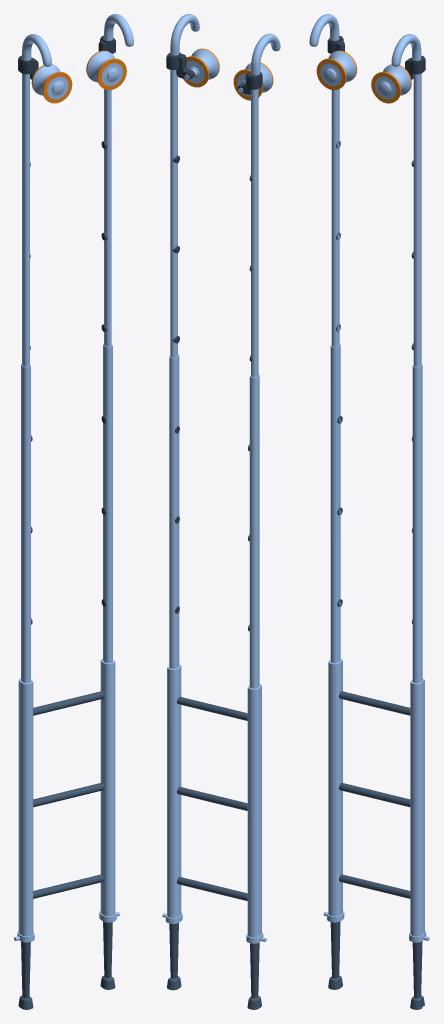
The model's file is Ladder_WheelsUpgrade_01_Mesh.fbx.
The picture shows the model from 3 angles, left to right: view 1: azimuth 30°, elevation 25°; view 2: azimuth 150°, elevation 25°; view 3: azimuth 330°, elevation 25°; orthographic projection.
Visible parts, largest first — view 1: Steps Right 4.001, Wheels.001, Steps Right 4.002; view 2: Steps Right 4.001, Wheels.001, Steps Right 4.002; view 3: Steps Right 4.001, Wheels.001, Steps Right 4.002.
Boxes of the visible parts, bbox=[...] form: Steps Right 4.001: bbox=[14, 73, 119, 1009]; Wheels.001: bbox=[30, 40, 126, 103]; Steps Right 4.002: bbox=[18, 14, 133, 74]; Steps Right 4.001: bbox=[162, 70, 266, 1009]; Wheels.001: bbox=[176, 48, 273, 100]; Steps Right 4.002: bbox=[166, 14, 280, 89]; Steps Right 4.001: bbox=[323, 73, 429, 1009]; Wheels.001: bbox=[316, 40, 413, 103]; Steps Right 4.002: bbox=[309, 14, 425, 74].
Size of the model in its own units: 43.06 by 388 by 20.44.
